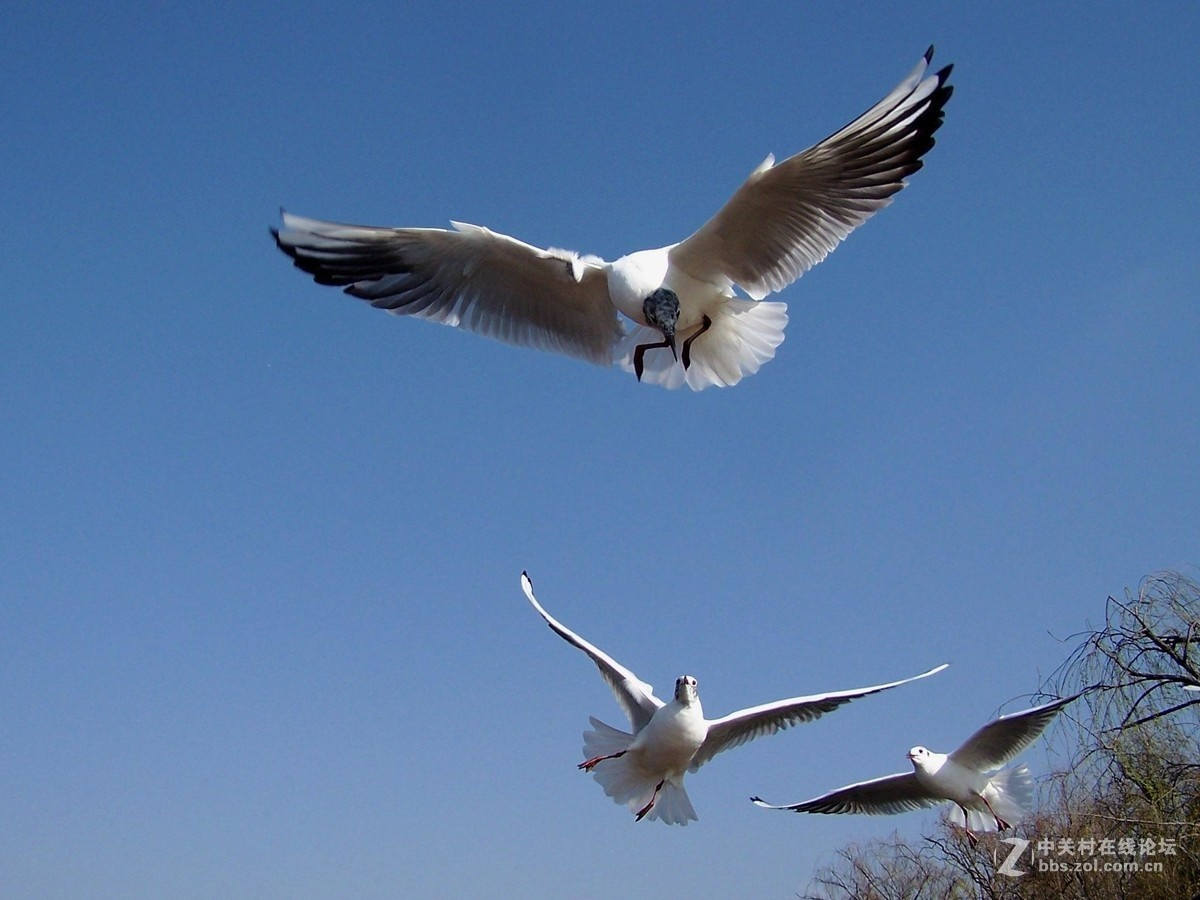bird: (253, 42, 974, 397), (516, 562, 952, 844), (754, 686, 1083, 868)
